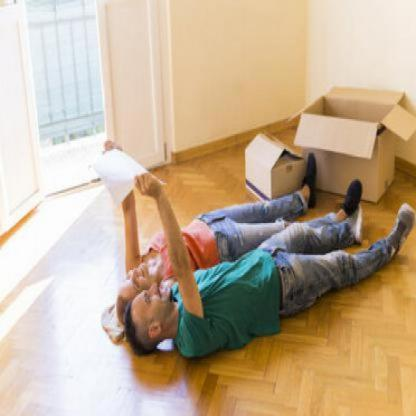-: (294, 59, 415, 224), (237, 118, 308, 232)
